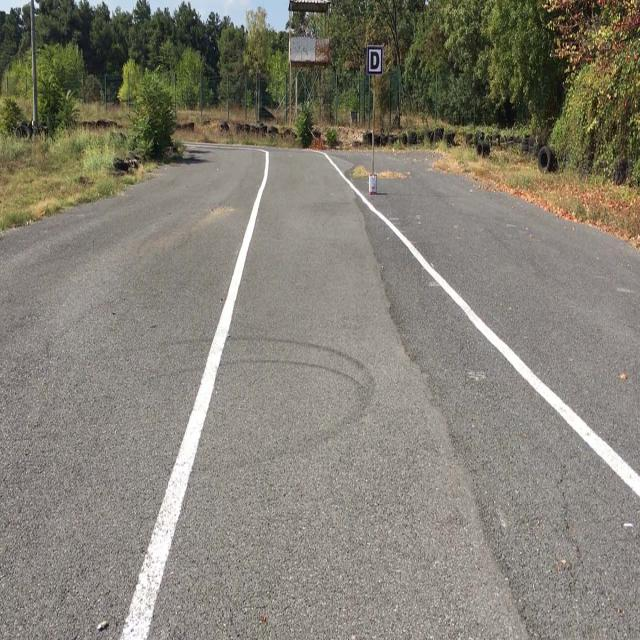durak: (367, 46, 383, 74)
